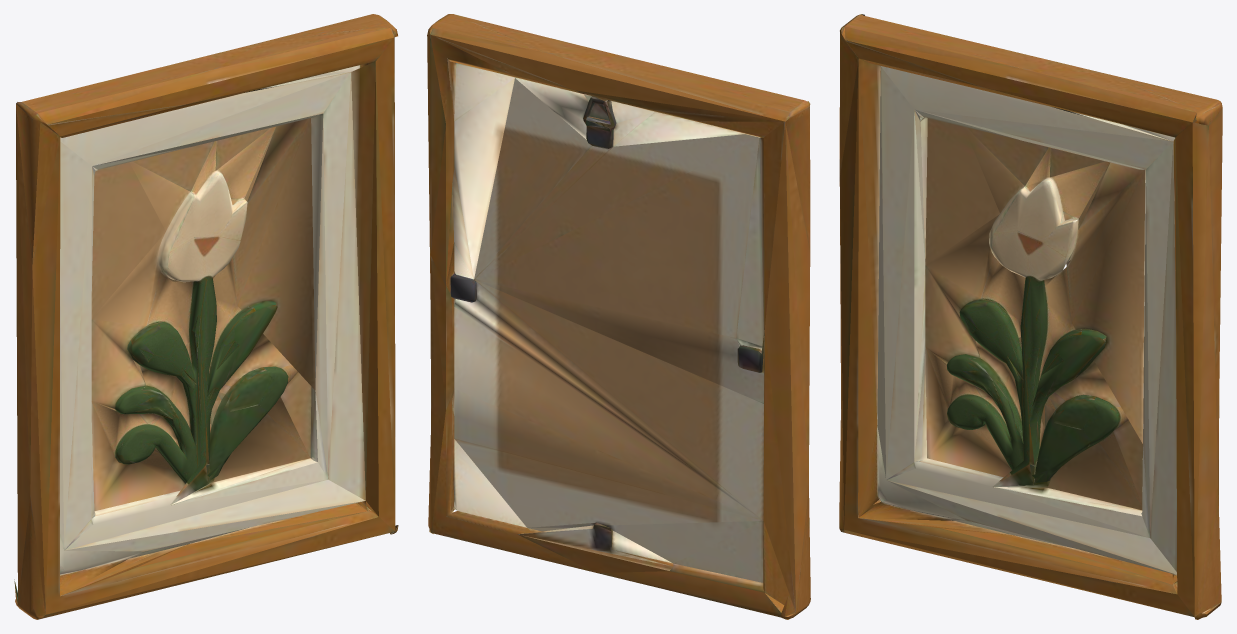
The model's file is wall_frame.gltf.
3 views of the same model, side by side, from view 1: azimuth 30°, elevation 25°; view 2: azimuth 150°, elevation 25°; view 3: azimuth 330°, elevation 25° (orthographic).
Parts seen in each view (by area): view 1: wall_frame; view 2: wall_frame; view 3: wall_frame.
Part boxes in pixels (bbox=[...]): wall_frame: bbox=[14, 14, 398, 619]; wall_frame: bbox=[427, 14, 810, 619]; wall_frame: bbox=[839, 14, 1222, 619].
Bounding box in the file's own units: 1.13 × 1.5 × 0.1422.
Materials: 1 (1 with a texture image).
